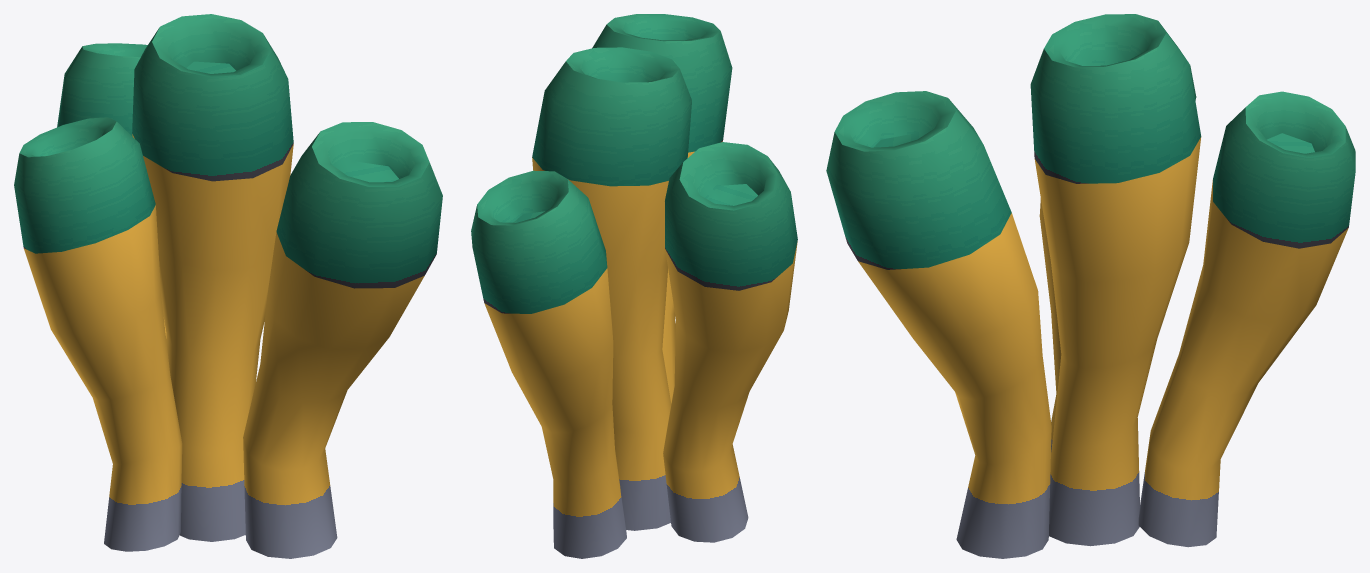
The model's file is D_CoralReef.089.glb.
3 renders of one model, left to right at view 1: azimuth 30°, elevation 25°; view 2: azimuth 150°, elevation 25°; view 3: azimuth 270°, elevation 25°, orthographic. The views are drawn at different scales.
Parts seen in each view (by area): view 1: D_CoralReef.089; view 2: D_CoralReef.089; view 3: D_CoralReef.089.
Part boxes in pixels (x1,y1,x2,y2): D_CoralReef.089: [14, 14, 442, 558]; D_CoralReef.089: [471, 14, 797, 558]; D_CoralReef.089: [826, 14, 1355, 558].
Size of the model in its own units: 0.144 by 0.2148 by 0.2055.
1 material, 1 textured.
